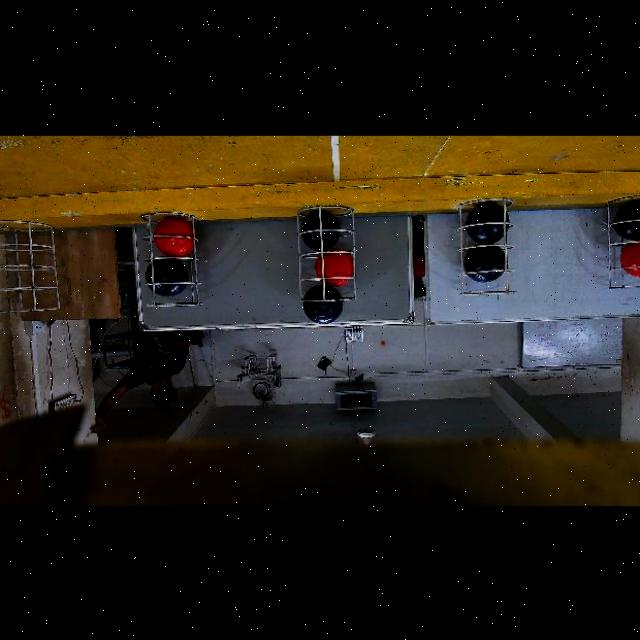P: (147, 258, 190, 297), (468, 203, 509, 243), (301, 211, 340, 250), (303, 285, 343, 323), (464, 245, 505, 282), (617, 198, 640, 237)
R: (153, 217, 195, 257), (315, 253, 353, 286), (619, 242, 640, 277)
S: (284, 196, 354, 310), (133, 215, 201, 312), (452, 194, 514, 296), (0, 219, 62, 315), (606, 200, 640, 292)
